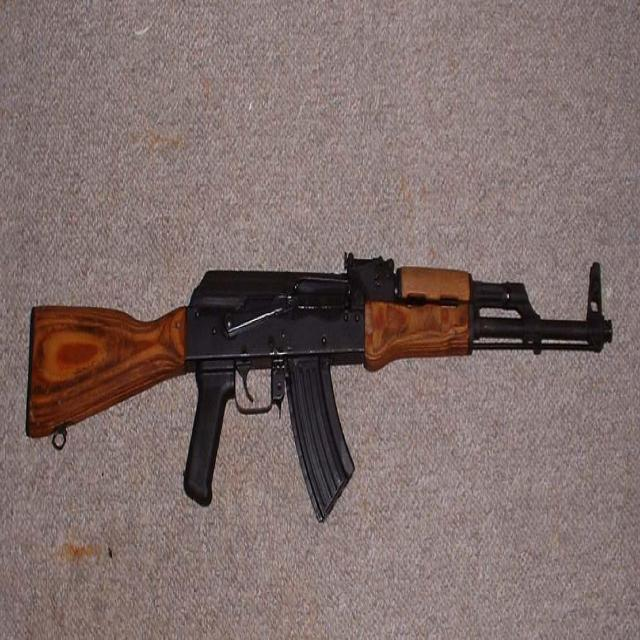gun: (27, 274, 614, 526)
